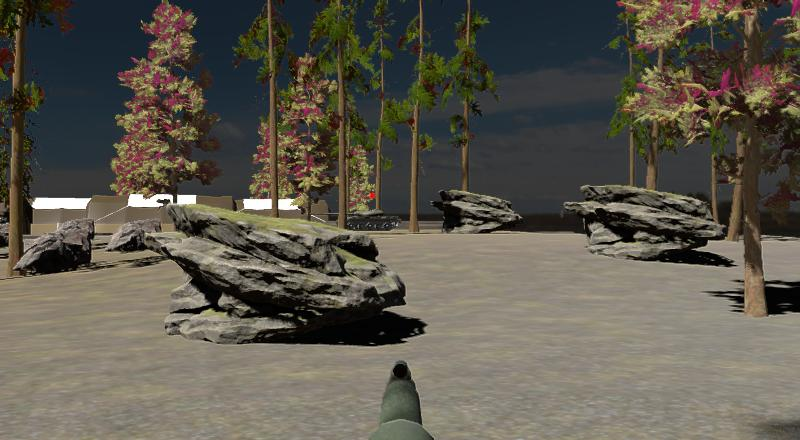Tank: (308, 207, 402, 233)
